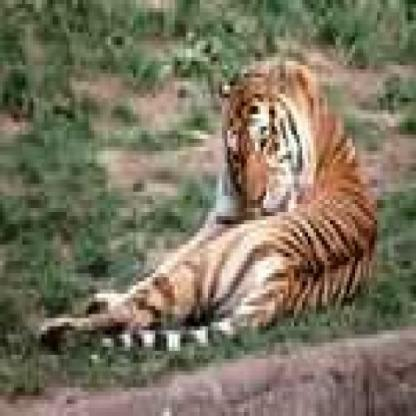Tiger: (32, 58, 381, 352)
